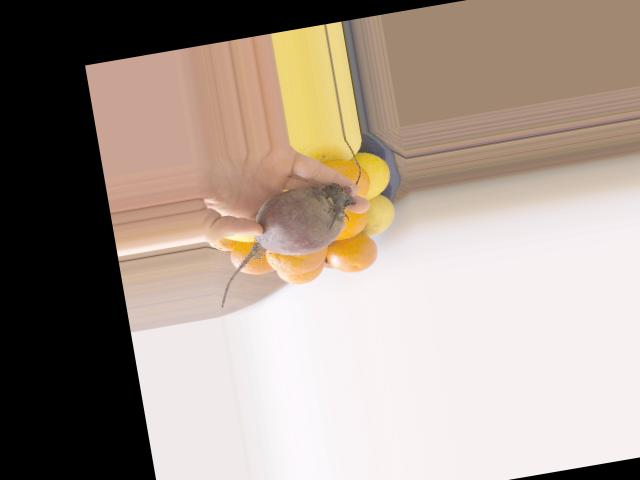beet: (204, 179, 367, 307)
